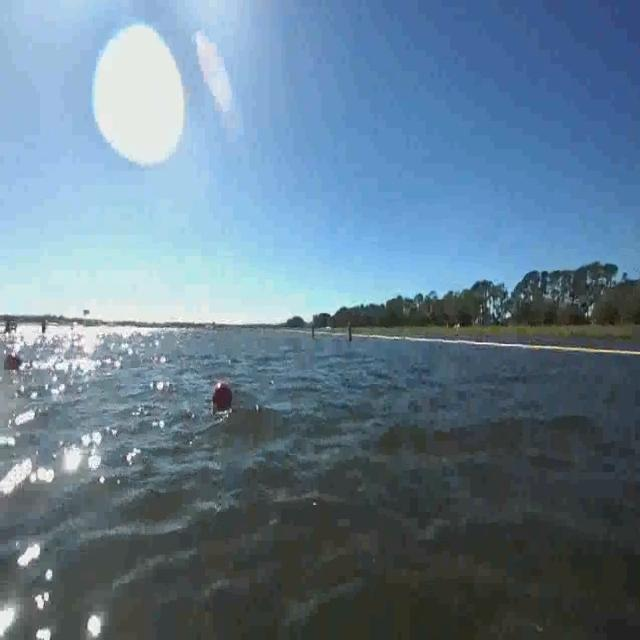red-buoy: (210, 376, 234, 412)
